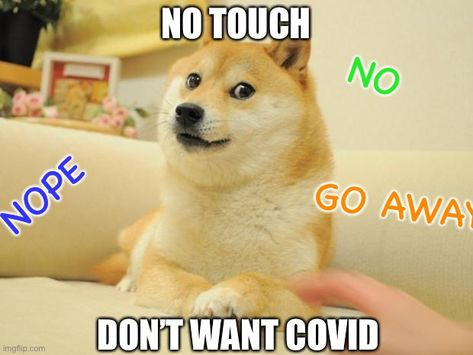doge: (137, 10, 337, 210)
